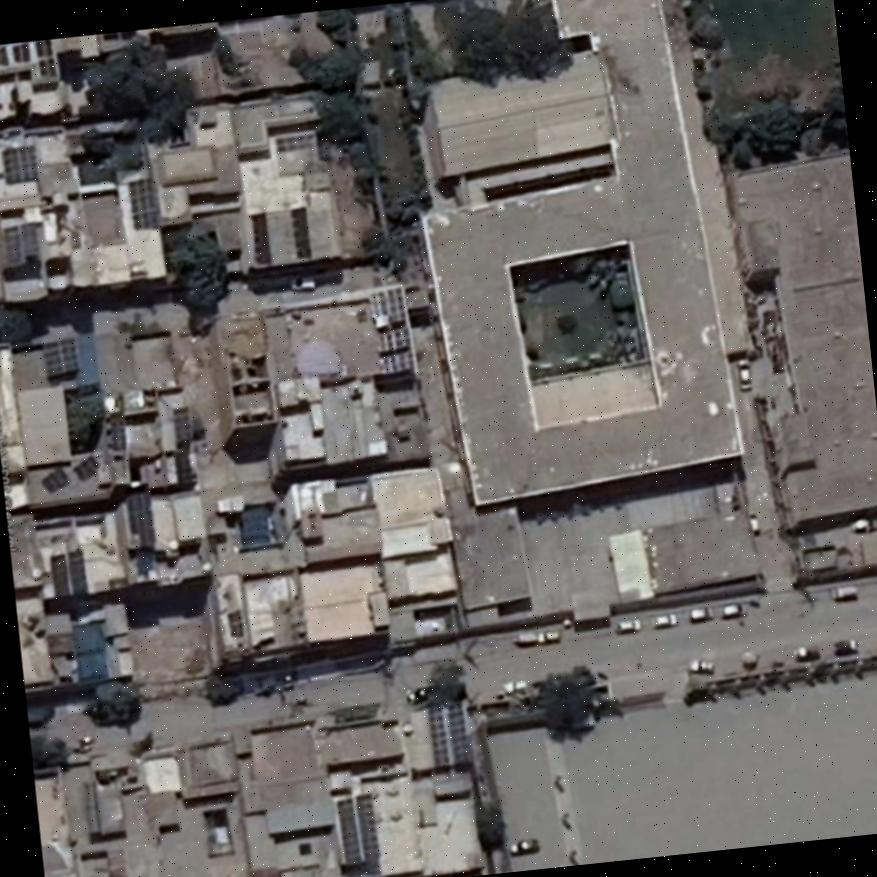Solarpanel: (337, 792, 379, 863), (430, 699, 469, 766), (129, 177, 156, 228), (2, 143, 37, 182), (44, 339, 79, 376), (369, 287, 402, 321), (35, 39, 58, 77), (377, 327, 411, 351), (382, 350, 413, 374), (43, 466, 68, 490), (171, 409, 190, 439), (73, 457, 96, 479), (13, 42, 29, 61), (0, 47, 7, 63)
